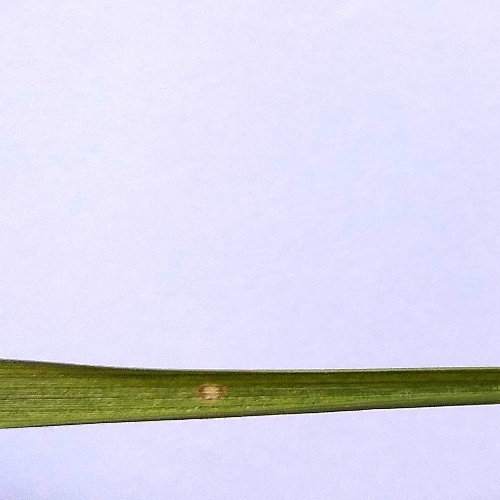Busuk Leher: (192, 380, 230, 408)
